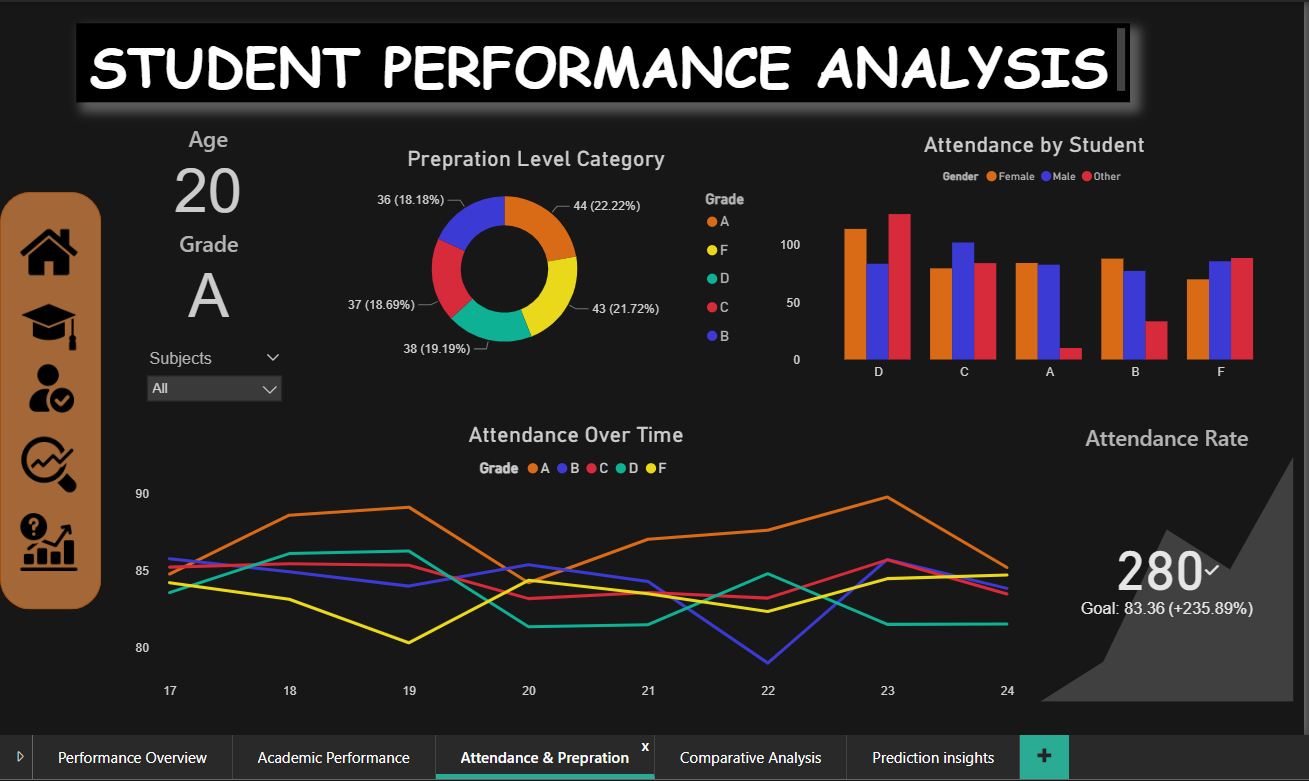

This screenshot's page, from the dashboard's own definition file:
{"tool":"powerbi","page":{"name":"Attendance & Prepration","canvas":[1280,720],"ordinal":2},"visuals":[{"type":"shape","box":[0,186.5,99.4,409.8],"z":0},{"type":"textbox","box":[74.8,20.9,1034.4,77.3],"z":1000},{"type":"image","box":[0,212.3,95.7,66.3],"z":2000},{"type":"image","box":[0,285.9,95.7,66.3],"z":3000},{"type":"image","box":[3.7,346,95.7,66.3],"z":4000},{"type":"image","box":[0,420.9,95.7,66.3],"z":5000},{"type":"image","box":[0,496.9,95.7,66.3],"z":6000},{"type":"actionButton","box":[0,212.3,99.4,66.3],"z":7000},{"type":"actionButton","box":[0,278.5,99.4,73.6],"z":8000},{"type":"actionButton","box":[0,346,99.4,66.3],"z":9000},{"type":"actionButton","box":[0,420.9,99.4,66.3],"z":10000},{"type":"actionButton","box":[0,496.9,99.4,66.3],"z":11000},{"type":"lineChart","title":"Attendance Over Time","fields":{"Category":["student_habits_performance.age"],"Y":["Avg(student_habits_performance.attendance_percentage)"],"Series":["student_habits_performance.Grade"]},"box":[127.6,412.3,876.1,279.8],"z":12000},{"type":"clusteredColumnChart","title":"Attendance by Student","fields":{"Category":["student_habits_performance.Grade"],"Y":["Avg(student_habits_performance.attendance_percentage)"],"Series":["student_habits_performance.gender"]},"box":[759.5,127.6,511.7,251.5],"z":13000},{"type":"donutChart","title":"Prepration Level Category","fields":{"Category":["student_habits_performance.Grade"],"Y":["Count(student_habits_performance.study_hours_per_day)"]},"box":[293.3,141.1,466.3,218.4],"z":14000},{"type":"kpi","title":"Attendance Rate","fields":{"Goal":["Avg(student_habits_performance.attendance_percentage)"],"TrendLine":["student_habits_performance.Grade"],"Indicator":["CountNonNull(student_habits_performance.Subjects)"]},"box":[1016,412.3,258.9,279.8],"z":15000},{"type":"card","title":"Age","fields":{"Values":["Median(student_habits_performance.age)"]},"box":[121.5,119,165.6,93.3],"z":16000},{"type":"slicer","fields":{"Values":["student_habits_performance.Subjects"]},"box":[133.7,336.2,153.4,76.1],"z":17000},{"type":"card","title":"Grade","fields":{"Values":["Min(student_habits_performance.Grade)"]},"box":[122.7,222.1,164.4,93.3],"z":18000}]}

Visuals, with their boxes on the page's 1280x720 design canvas (x1, y1, x2, y2). These are canvas units, not pixel positions in the 1309x781 screenshot, which may show the page scaled, cropped or inside an application window:
shape: 0:186:99:596
textbox: 75:21:1109:98
image: 0:212:96:279
image: 0:286:96:352
image: 4:346:99:412
image: 0:421:96:487
image: 0:497:96:563
actionButton: 0:212:99:279
actionButton: 0:278:99:352
actionButton: 0:346:99:412
actionButton: 0:421:99:487
actionButton: 0:497:99:563
"Attendance Over Time" lineChart: 128:412:1004:692
"Attendance by Student" clusteredColumnChart: 760:128:1271:379
"Prepration Level Category" donutChart: 293:141:760:360
"Attendance Rate" kpi: 1016:412:1275:692
"Age" card: 122:119:287:212
slicer - student_habits_performance.Subjects: 134:336:287:412
"Grade" card: 123:222:287:315
